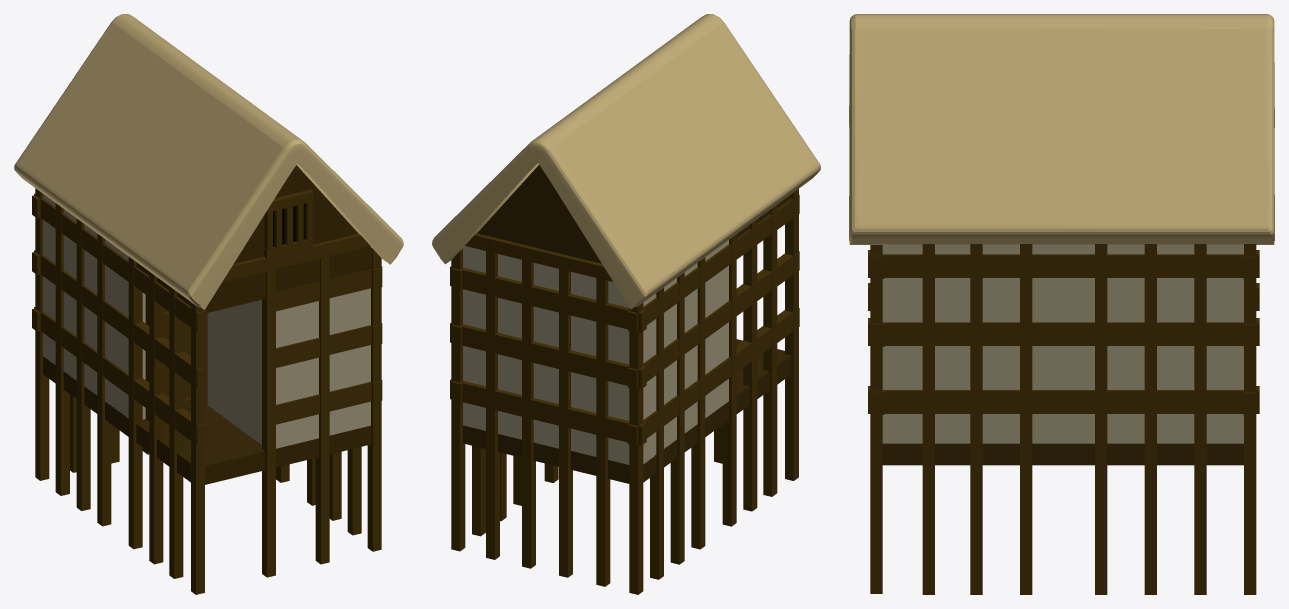
File: Home.fbx
3 views of the same model, side by side, from view 1: azimuth 30°, elevation 25°; view 2: azimuth 150°, elevation 25°; view 3: azimuth 270°, elevation 25° (orthographic). The views are drawn at different scales.
Visible parts, largest first — view 1: pCube56; view 2: pCube56; view 3: pCube56.
Part boxes in pixels (x1=…): pCube56: x1=14, y1=14, x2=403, y2=594; pCube56: x1=432, y1=14, x2=820, y2=594; pCube56: x1=849, y1=14, x2=1274, y2=594.
Size of the model in its own units: 11.96 by 23.15 by 17.05.
